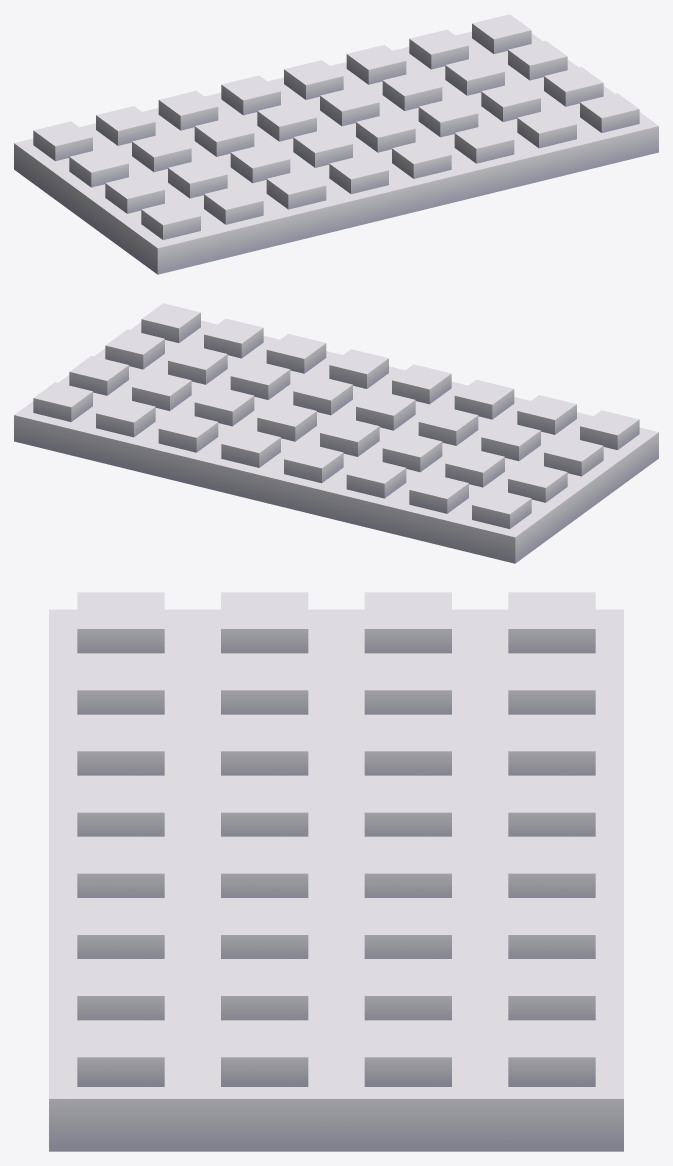
The model's file is square-lq-plate-4x8.glb.
The picture shows the model from 3 angles, top to bottom: view 1: azimuth 30°, elevation 25°; view 2: azimuth 150°, elevation 25°; view 3: azimuth 270°, elevation 25°; orthographic projection. The views are drawn at different scales.
Visible parts, largest first — view 1: square-lq-plate-4x8; view 2: square-lq-plate-4x8; view 3: square-lq-plate-4x8.
Part boxes in pixels (x1=…): square-lq-plate-4x8: x1=14, y1=14, x2=658, y2=274; square-lq-plate-4x8: x1=14, y1=303, x2=658, y2=563; square-lq-plate-4x8: x1=49, y1=592, x2=623, y2=1151.
Bounding box in the file's own units: 0.636 × 0.05 × 0.316.
1 material, 1 textured.
